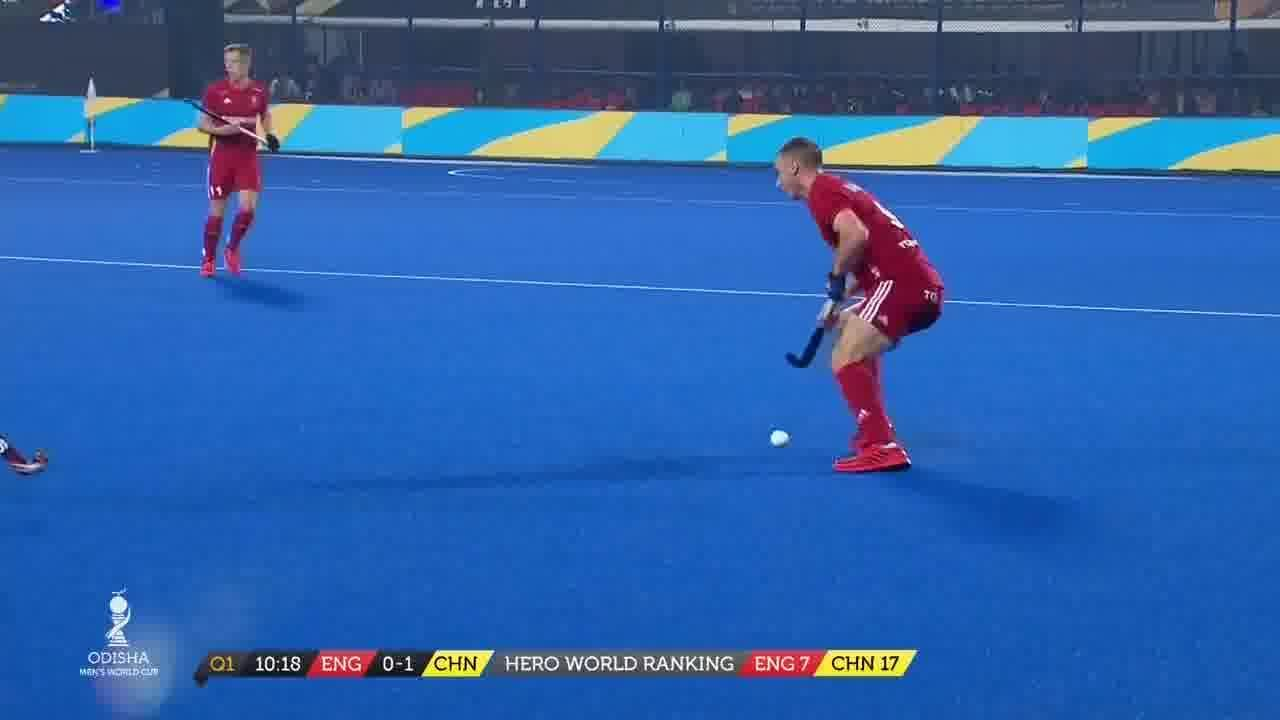ball: (759, 417, 792, 456)
